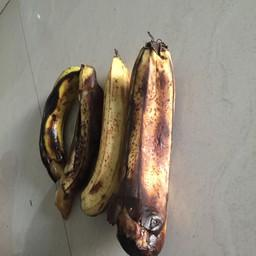Bad_banana: (126, 35, 169, 256), (65, 63, 102, 228), (41, 62, 75, 178)
